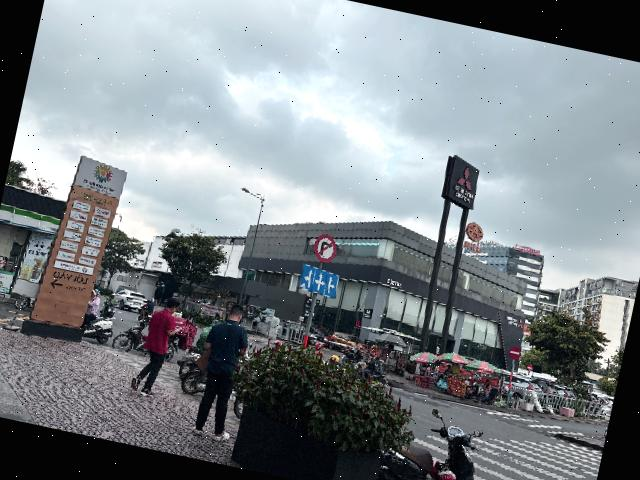cam-di-nguoc-chieu: (507, 345, 522, 361)
cam-re-trai: (311, 232, 338, 265)
